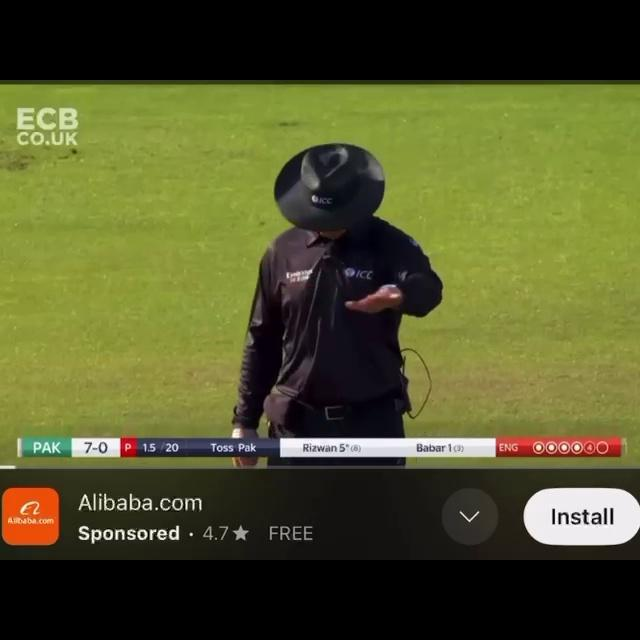umpire: (137, 121, 640, 430)
